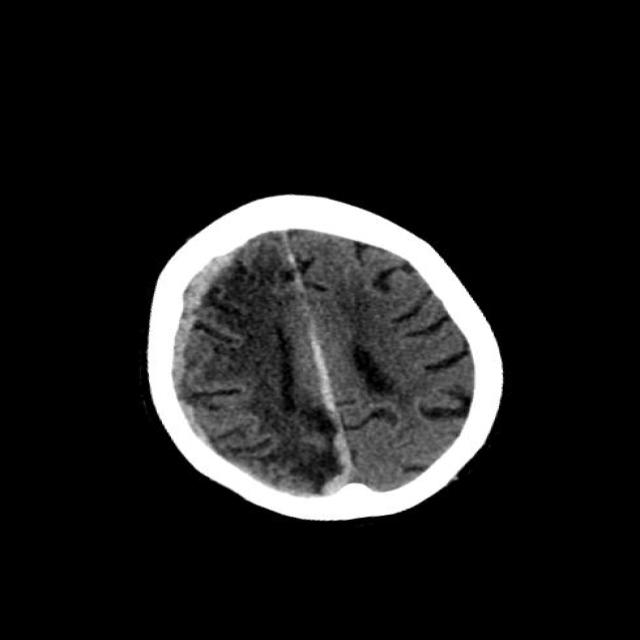Subdural: (93, 232, 329, 498), (278, 330, 399, 506)
